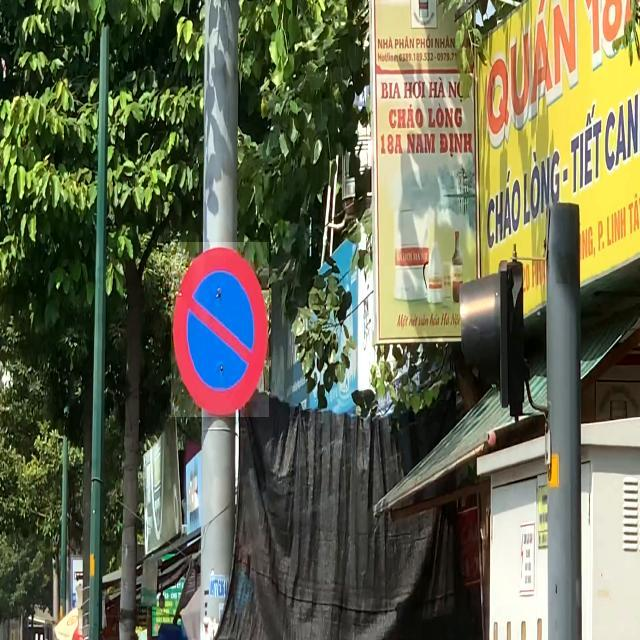P-131a: (171, 242, 269, 417)
